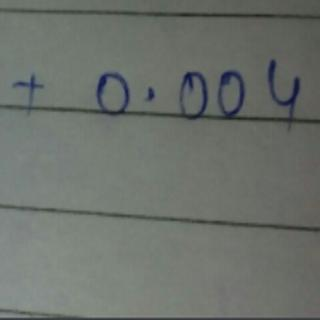.: (142, 83, 161, 101)
0: (94, 69, 134, 115), (217, 67, 245, 123), (179, 69, 207, 117)
4: (265, 55, 302, 126)
